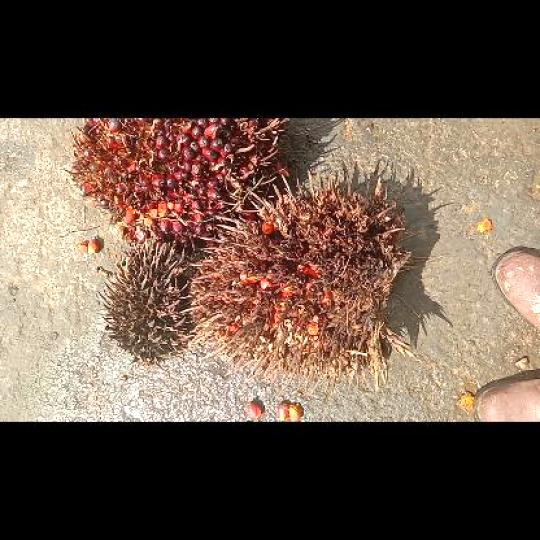masak: (63, 118, 282, 245)
terlalu masak: (180, 169, 412, 387)
